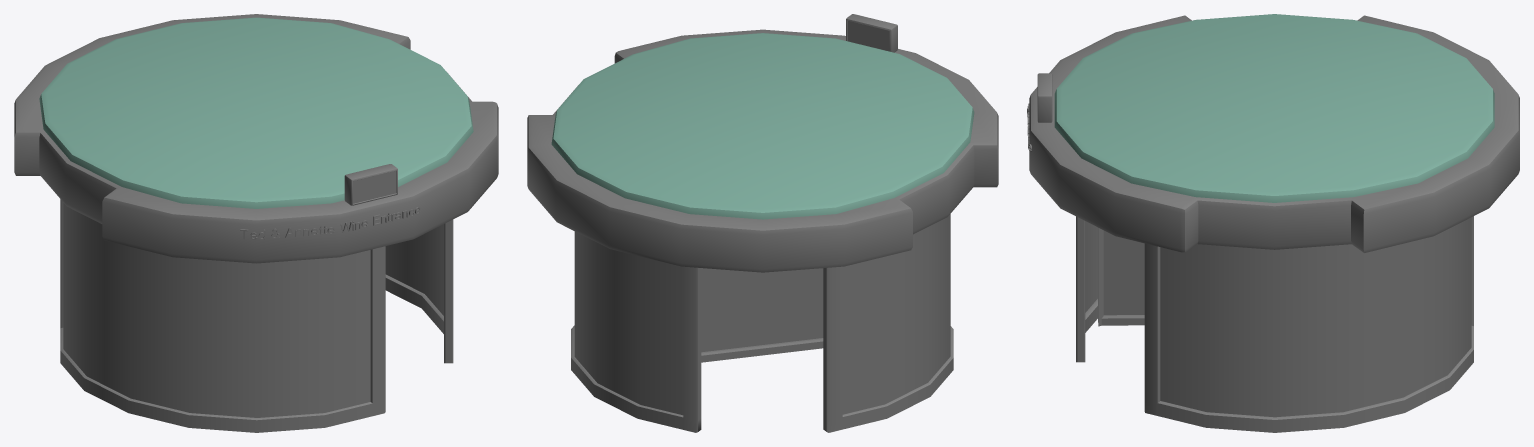
The model's file is Front_Doors.fbx.
The picture shows the model from 3 angles, left to right: view 1: azimuth 30°, elevation 25°; view 2: azimuth 150°, elevation 25°; view 3: azimuth 270°, elevation 25°; orthographic projection. The views are drawn at different scales.
Parts seen in each view (by area): view 1: Front_Doors; view 2: Front_Doors; view 3: Front_Doors.
Boxes of the visible parts, x1=… form: Front_Doors: x1=14, y1=14, x2=498, y2=432; Front_Doors: x1=527, y1=14, x2=998, y2=432; Front_Doors: x1=1027, y1=14, x2=1519, y2=432.
Size of the model in its own units: 689 by 433 by 733.
